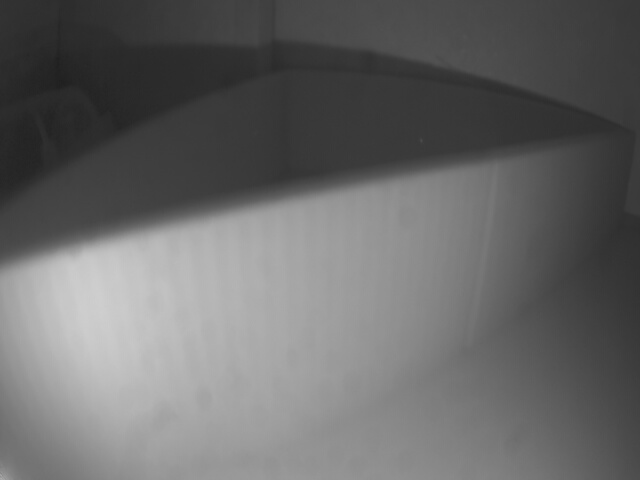Point: (2, 135, 637, 479)
